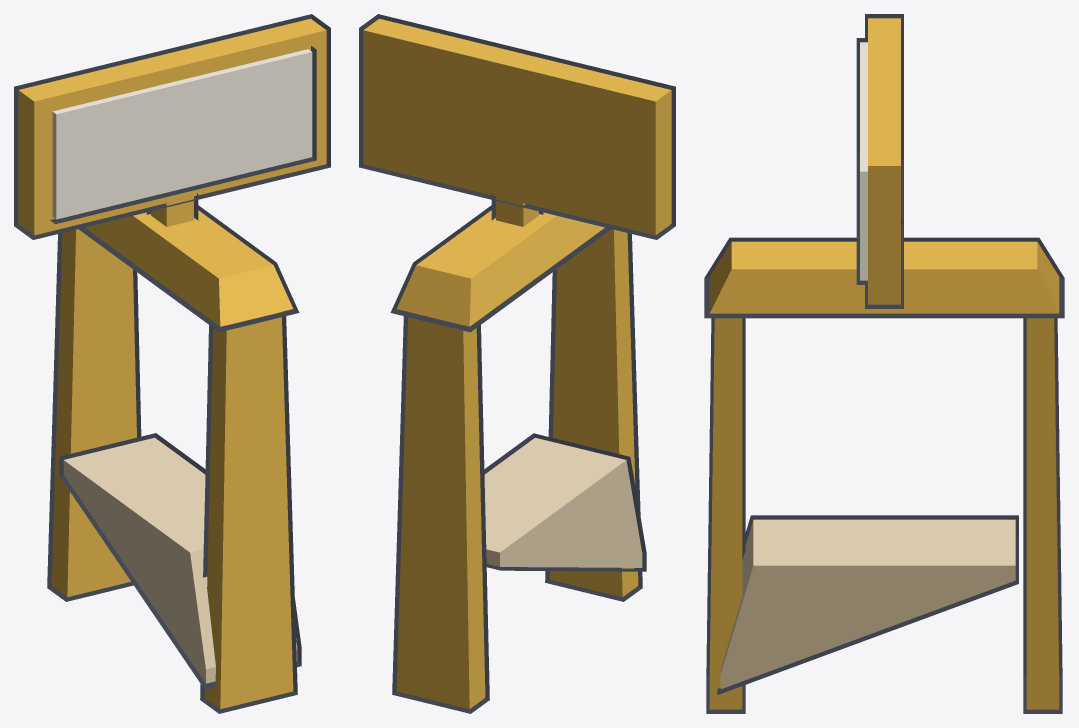
The model's file is sort_gate_3.glb.
The picture shows the model from 3 angles, left to right: view 1: azimuth 30°, elevation 25°; view 2: azimuth 150°, elevation 25°; view 3: azimuth 270°, elevation 25°; orthographic projection. The views are drawn at different scales.
Parts seen in each view (by area): view 1: arch, sign, chute, ink_outline (×3); view 2: arch, sign, chute, ink_outline (×3); view 3: arch, chute, ink_outline (×3), sign.
Part boxes in pixels (x1=…): arch: x1=51, y1=210, x2=293, y2=708; sign: x1=18, y1=18, x2=326, y2=235; chute: x1=63, y1=437, x2=297, y2=683; ink_outline (×3): x1=14, y1=14, x2=330, y2=713; arch: x1=396, y1=210, x2=638, y2=708; sign: x1=363, y1=18, x2=671, y2=235; chute: x1=484, y1=437, x2=642, y2=567; ink_outline (×3): x1=359, y1=14, x2=675, y2=713; arch: x1=709, y1=241, x2=1059, y2=709; chute: x1=720, y1=519, x2=1015, y2=688; ink_outline (×3): x1=704, y1=14, x2=1064, y2=713; sign: x1=860, y1=18, x2=900, y2=304.
Bounding box in the file's own units: 0.0652 × 0.1222 × 0.0659.
